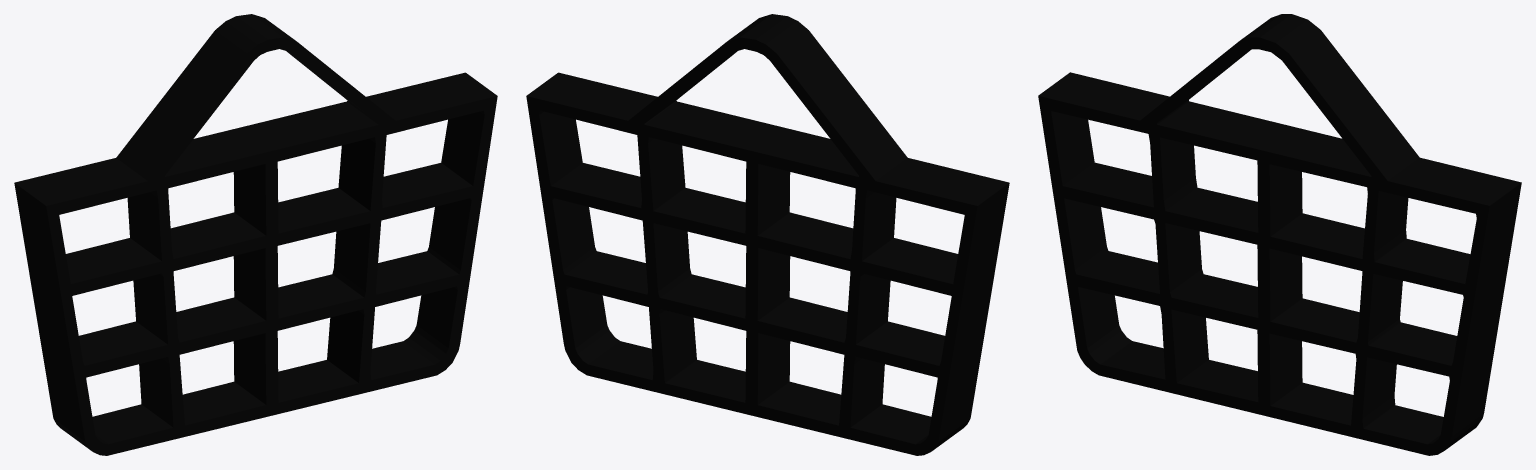
File: dezyne_3d-shopping-basket-431.glb
The picture shows the model from 3 angles, left to right: view 1: azimuth 30°, elevation 25°; view 2: azimuth 150°, elevation 25°; view 3: azimuth 330°, elevation 25°; orthographic projection.
Parts seen in each view (by area): view 1: node_id517; view 2: node_id517; view 3: node_id517.
Boxes of the visible parts, x1,y1,x2,y2 form: node_id517: [14, 14, 497, 455]; node_id517: [526, 14, 1009, 455]; node_id517: [1038, 14, 1521, 455].
Size of the model in its own units: 0.512 by 0.4086 by 0.0629.
Materials: 1 (1 with a texture image).
